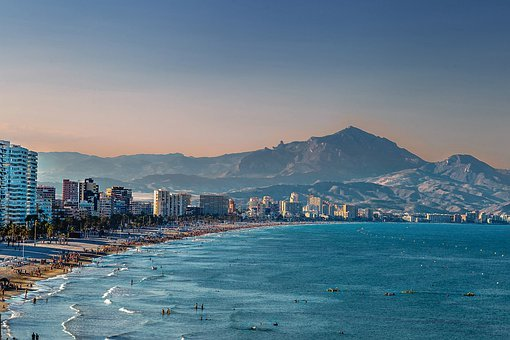beach: (30, 209, 503, 340)
mountain: (48, 126, 508, 208)
sky: (6, 4, 507, 147)
